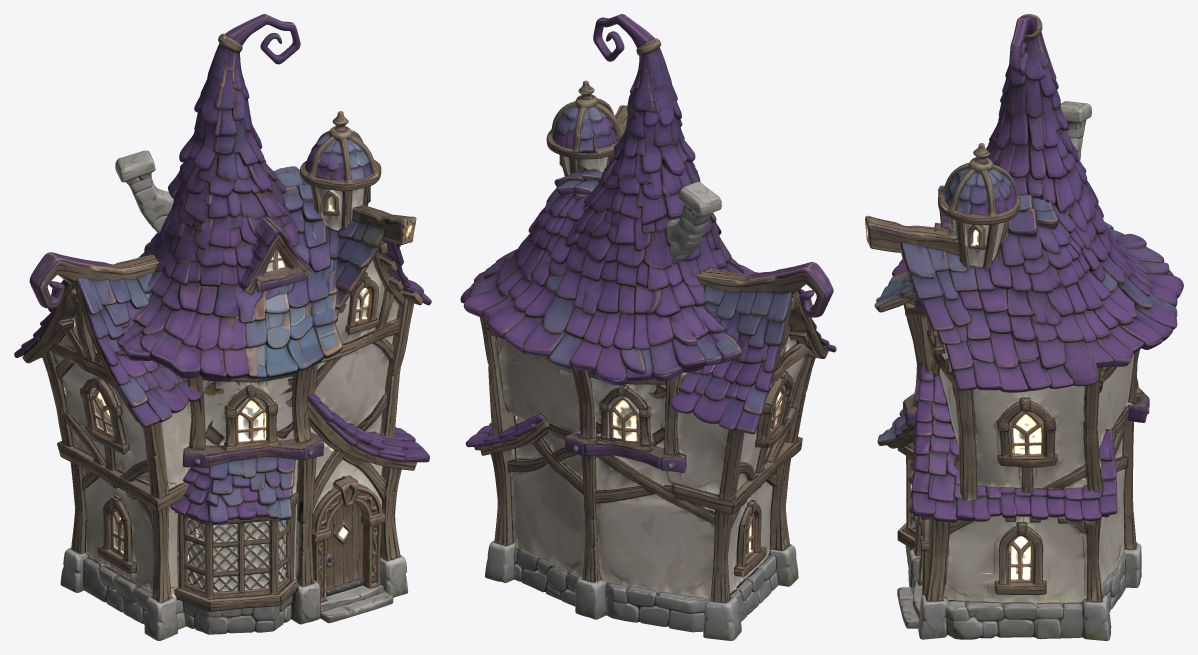
Rendered from SilverCrystalShop_300k.glb.
3 views of the same model, side by side, from view 1: azimuth 30°, elevation 25°; view 2: azimuth 150°, elevation 25°; view 3: azimuth 270°, elevation 25° (orthographic). The views are drawn at different scales.
Parts seen in each view (by area): view 1: Mesh_0; view 2: Mesh_0; view 3: Mesh_0.
Part boxes in pixels (x1=…): Mesh_0: x1=14, y1=14, x2=431, y2=640; Mesh_0: x1=460, y1=14, x2=836, y2=640; Mesh_0: x1=865, y1=14, x2=1183, y2=640.
Size of the model in its own units: 1.28 by 1.9 by 0.9569.
1 material, 1 textured.
